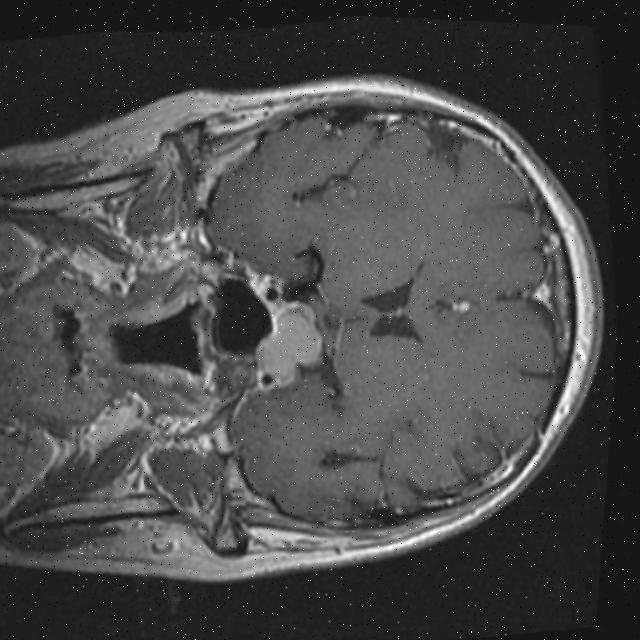Pituitary: (249, 301, 329, 387)
